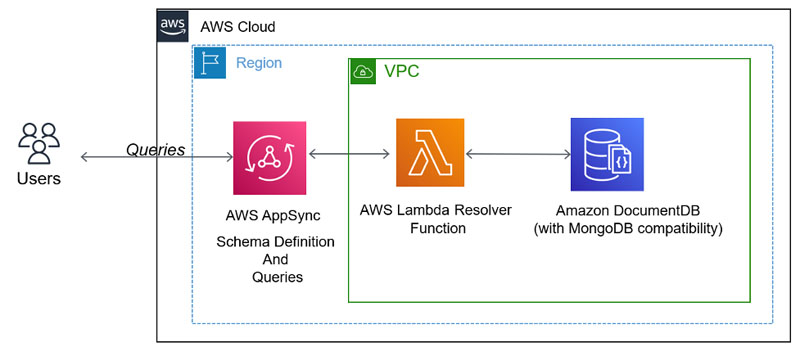appsync: (233, 123, 306, 195)
documentdb: (570, 120, 642, 190)
lambda: (397, 119, 462, 187)
vpc: (350, 61, 375, 83)
